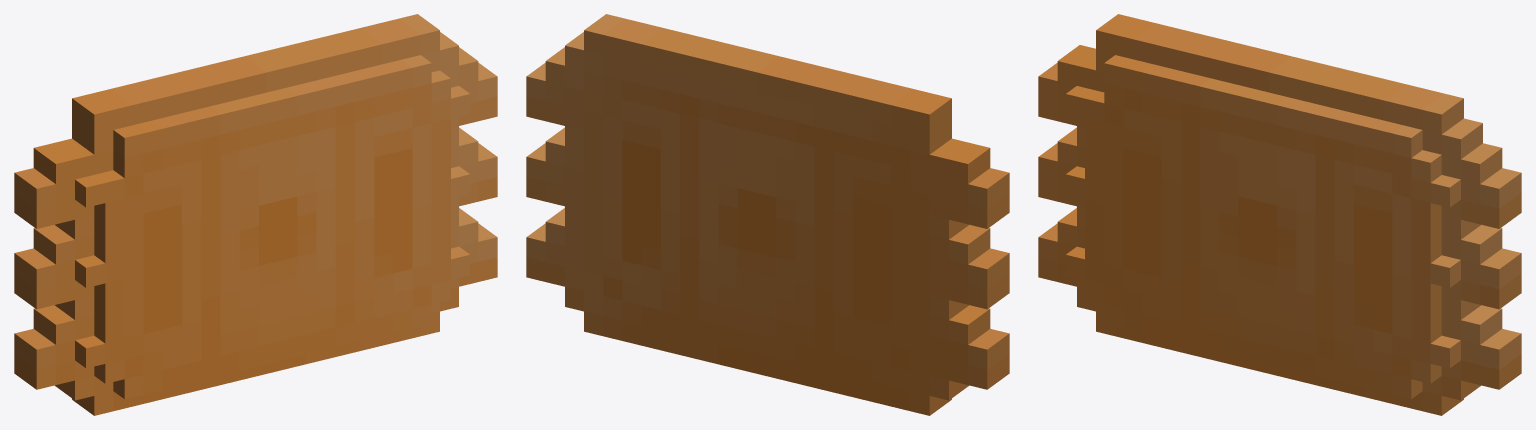
Rendered from tickets.glb.
3 views of the same model, side by side, from view 1: azimuth 30°, elevation 25°; view 2: azimuth 150°, elevation 25°; view 3: azimuth 330°, elevation 25° (orthographic).
Visible parts, largest first — view 1: prop; view 2: prop; view 3: prop.
Part boxes in pixels (left/top/right/bottom): prop: left=14, top=14, right=497, bottom=415; prop: left=526, top=14, right=1009, bottom=415; prop: left=1038, top=14, right=1521, bottom=415.
Size of the model in its own units: 16 by 10 by 2.
